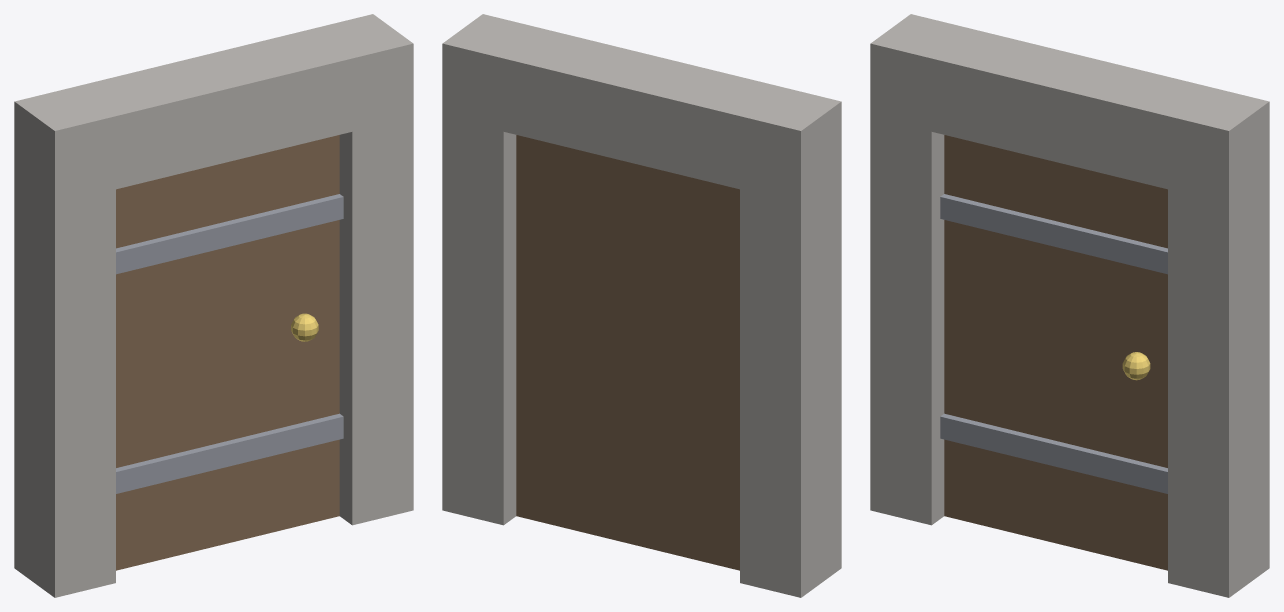
The model's file is dungeon_door.glb.
The picture shows the model from 3 angles, left to right: view 1: azimuth 30°, elevation 25°; view 2: azimuth 150°, elevation 25°; view 3: azimuth 330°, elevation 25°; orthographic projection.
Parts seen in each view (by area): view 1: dungeon_door_03, dungeon_door_02, dungeon_door_00, dungeon_door_01, dungeon_door_04, dungeon_door_05, dungeon_door_06; view 2: dungeon_door_03, dungeon_door_02, dungeon_door_00, dungeon_door_01; view 3: dungeon_door_03, dungeon_door_02, dungeon_door_01, dungeon_door_00, dungeon_door_04, dungeon_door_05, dungeon_door_06.
Boxes of the visible parts, x1=… form: dungeon_door_03: x1=116, y1=135, x2=339, y2=570; dungeon_door_02: x1=14, y1=14, x2=413, y2=203; dungeon_door_00: x1=14, y1=166, x2=115, y2=597; dungeon_door_01: x1=339, y1=107, x2=413, y2=525; dungeon_door_04: x1=116, y1=194, x2=343, y2=274; dungeon_door_05: x1=116, y1=413, x2=343, y2=493; dungeon_door_06: x1=291, y1=313, x2=318, y2=341; dungeon_door_03: x1=516, y1=135, x2=739, y2=570; dungeon_door_02: x1=442, y1=14, x2=841, y2=203; dungeon_door_00: x1=740, y1=166, x2=841, y2=597; dungeon_door_01: x1=442, y1=107, x2=516, y2=525; dungeon_door_03: x1=944, y1=135, x2=1167, y2=570; dungeon_door_02: x1=870, y1=14, x2=1269, y2=203; dungeon_door_01: x1=1168, y1=166, x2=1269, y2=597; dungeon_door_00: x1=870, y1=107, x2=944, y2=525; dungeon_door_04: x1=940, y1=194, x2=1167, y2=274; dungeon_door_05: x1=940, y1=413, x2=1167, y2=493; dungeon_door_06: x1=1122, y1=352, x2=1150, y2=380.
Bounding box in the file's own units: 2.05 × 2.55 × 0.4.
